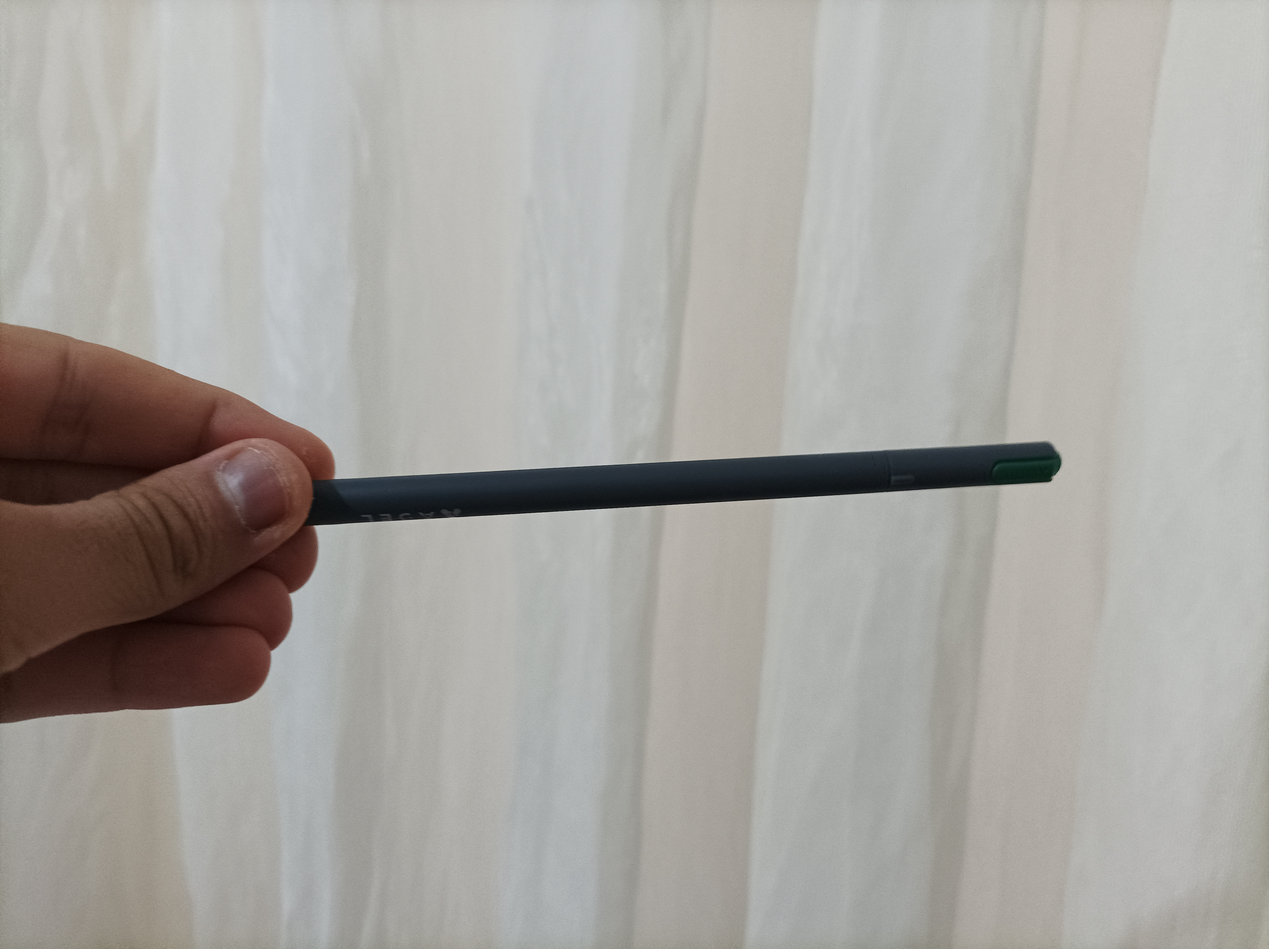plastic: (251, 447, 1060, 542)
